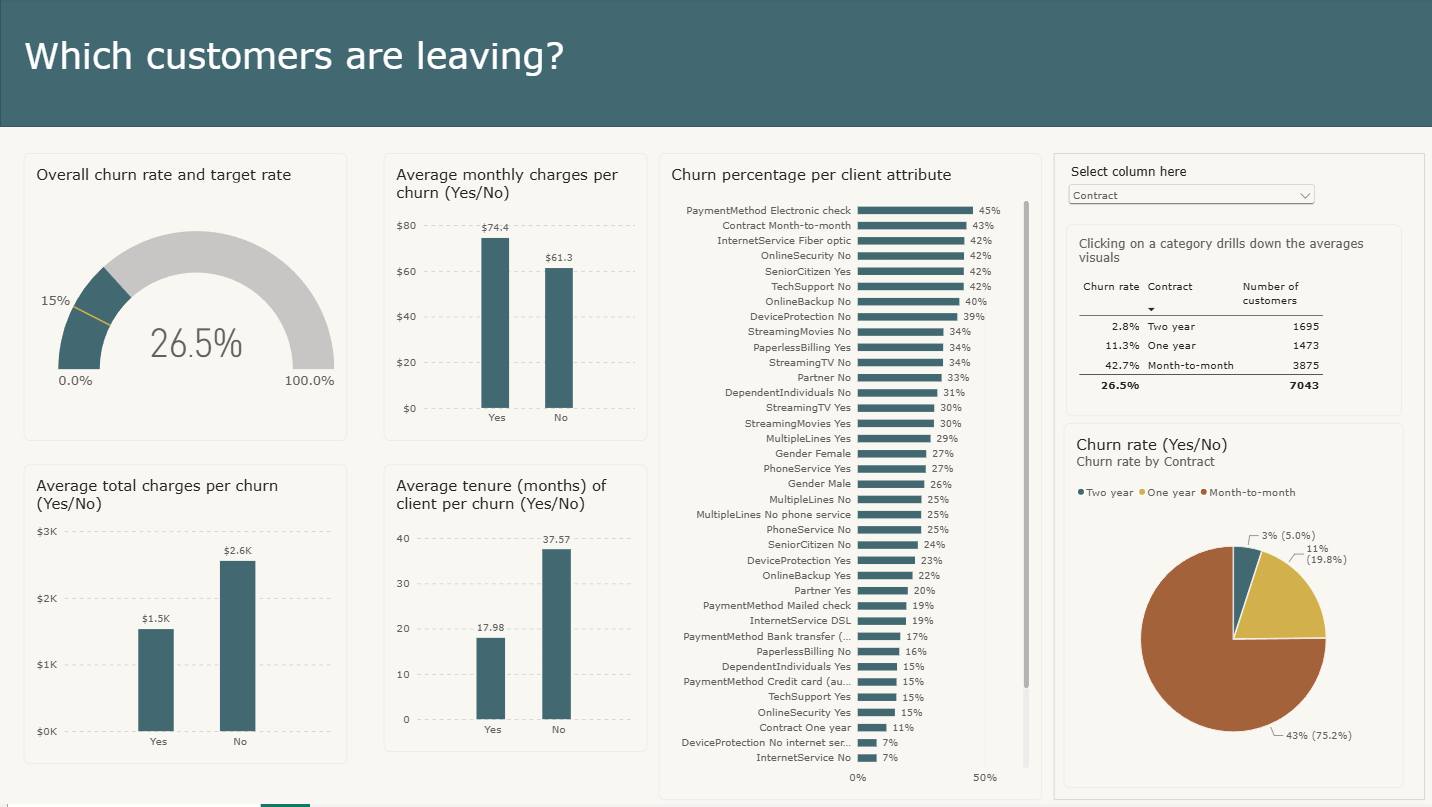

This screenshot's page, from the dashboard's own definition file:
{"tool":"powerbi","page":{"name":"Which customers are leaving?","canvas":[1920,1080],"ordinal":0},"visuals":[{"type":"shape","box":[0,0,1920.1,173.7],"z":0},{"type":"shape","box":[1408,208,496,864],"z":0,"group":"g1"},{"type":"tableEx","fields":{"Values":["Customer_churn.Churn rate","Customer_churn.Contract","Customer_churn.Number of customers"]},"box":[1424,304,448,255.9],"z":1000,"group":"g1"},{"type":"pieChart","title":"Churn rate (Yes/No)","fields":{"Category":["Customer_churn.Contract"],"Y":["Customer_churn.Churn rate"]},"box":[1422.2,569.3,453.5,487],"z":2000,"group":"g1"},{"type":"columnChart","title":"Average monthly charges per churn (Yes/No)","fields":{"Category":["Customer_churn.Churn"],"Y":["Avg(Customer_churn.MonthlyCharges)"]},"box":[512,208,352,384],"z":3000},{"type":"slicer","fields":{"Values":["Parameter.Parameter"]},"box":[1422.7,223.7,339,62.8],"z":3000,"group":"g1"},{"type":"columnChart","title":"Average tenure (months) of client per churn (Yes/No)","fields":{"Category":["Customer_churn.Churn"],"Y":["Avg(Customer_churn.tenure)"]},"box":[512,624,352,384],"z":4000},{"type":"textbox","box":[32,48,784,80],"z":5000},{"type":"gauge","title":"Overall churn rate and target rate","fields":{"TargetValue":["Customer_churn.Target churn percentage"],"Y":["Customer_churn.Churn rate"]},"box":[32,208,432,384],"z":6000},{"type":"group","id":"g1","title":"Group 1","box":[1408,208,496,864],"z":7000},{"type":"columnChart","title":"Average total charges per churn (Yes/No)","fields":{"Category":["Customer_churn.Churn"],"Y":["Avg(Customer_churn.TotalCharges)"]},"box":[32,624,432,400],"z":8000},{"type":"clusteredBarChart","title":"Churn percentage per client attribute","fields":{"Category":["Calc_table.Attribute","Calc_table.Value"],"Y":["Calc_table.Churn(%)"]},"box":[880,208,512,864],"z":9000}]}

Visuals, with their boxes in screenshot pixels (x1, y1, x2, y2), scaled from the page's 1920x1080 canvas onto the 1432x807 screenshot:
shape: left=0, top=0, right=1431, bottom=130
shape: left=1050, top=155, right=1420, bottom=801
tableEx - Customer_churn.Churn rate x Customer_churn.Contract: left=1062, top=227, right=1396, bottom=418
"Churn rate (Yes/No)" pieChart: left=1061, top=425, right=1399, bottom=789
"Average monthly charges per churn (Yes/No)" columnChart: left=382, top=155, right=644, bottom=442
slicer - Parameter.Parameter: left=1061, top=167, right=1314, bottom=214
"Average tenure (months) of client per churn (Yes/No)" columnChart: left=382, top=466, right=644, bottom=753
textbox: left=24, top=36, right=609, bottom=96
"Overall churn rate and target rate" gauge: left=24, top=155, right=346, bottom=442
"Group 1" group: left=1050, top=155, right=1420, bottom=801
"Average total charges per churn (Yes/No)" columnChart: left=24, top=466, right=346, bottom=765
"Churn percentage per client attribute" clusteredBarChart: left=656, top=155, right=1038, bottom=801
